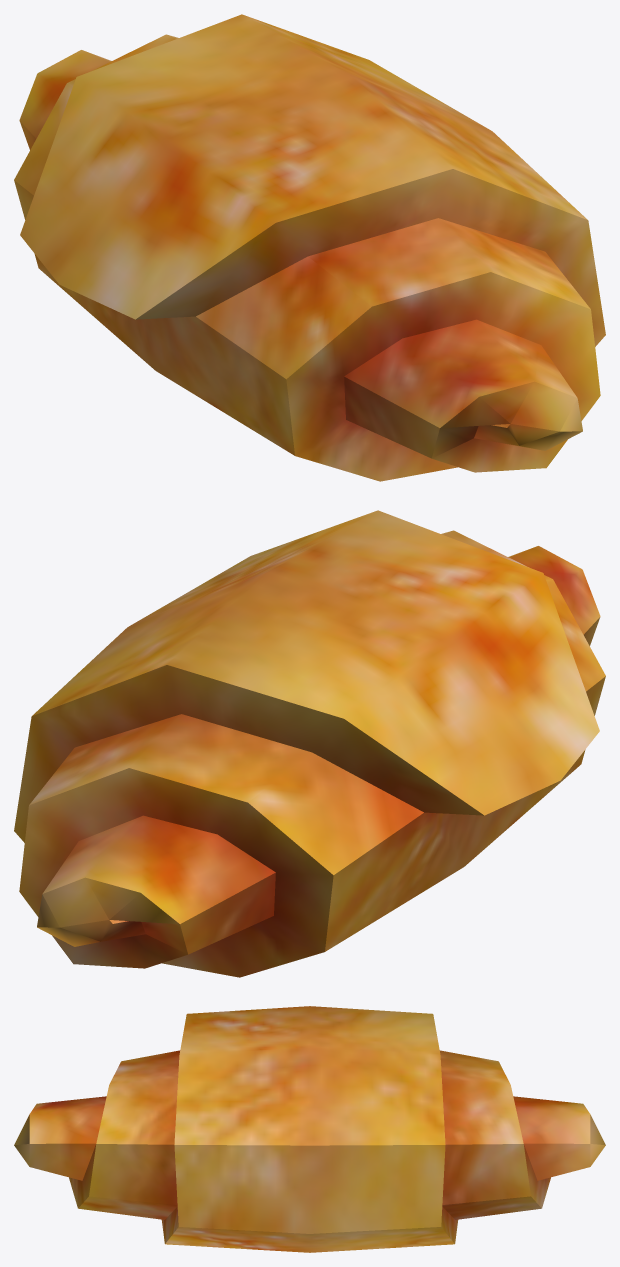
The model's file is SweetPastries_5.fbx.
The picture shows the model from 3 angles, top to bottom: view 1: azimuth 30°, elevation 25°; view 2: azimuth 150°, elevation 25°; view 3: azimuth 270°, elevation 25°; orthographic projection. The views are drawn at different scales.
Visible parts, largest first — view 1: SweetPastries_5; view 2: SweetPastries_5; view 3: SweetPastries_5.
Part boxes in pixels (x1,y1,x2,y2): SweetPastries_5: (14,14,605,481); SweetPastries_5: (14,510,605,977); SweetPastries_5: (14,1006,605,1252).
Size of the model in its own units: 0.1553 by 0.1027 by 0.2824.
